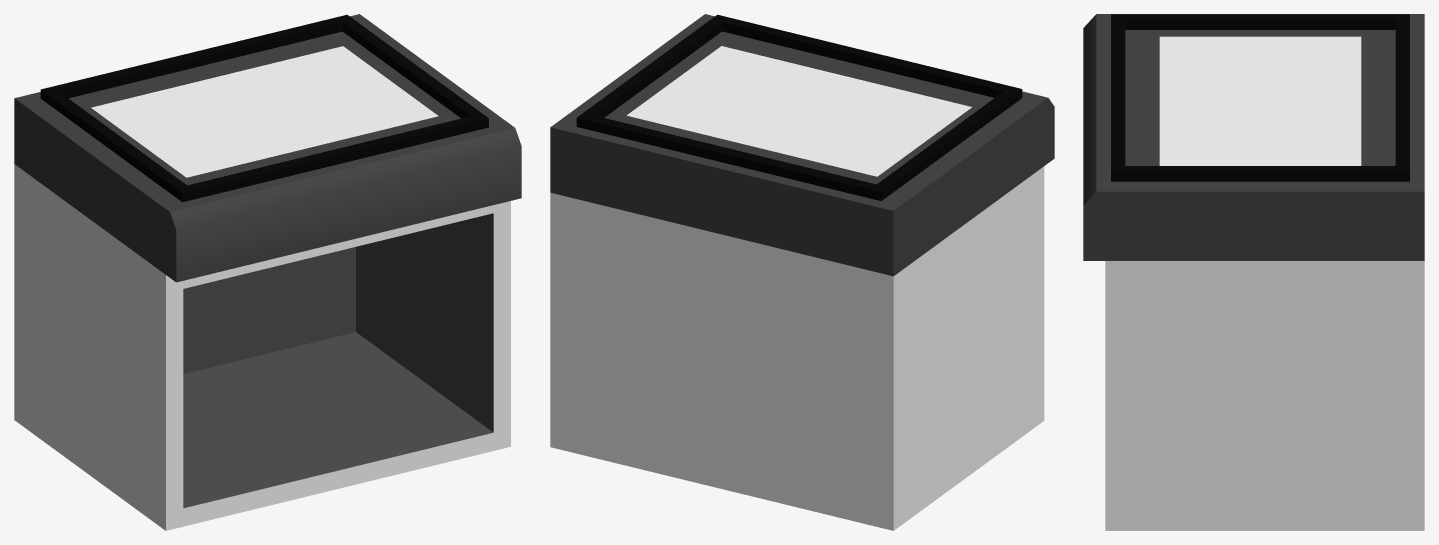
The model's file is Itr_Oven_Body_01.FBX.
3 views of the same model, side by side, from view 1: azimuth 30°, elevation 25°; view 2: azimuth 150°, elevation 25°; view 3: azimuth 270°, elevation 25° (orthographic). The views are drawn at different scales.
Visible parts, largest first — view 1: Itr_Oven_Body_01; view 2: Itr_Oven_Body_01; view 3: Itr_Oven_Body_01.
Boxes of the visible parts, left/top/right/bottom form: Itr_Oven_Body_01: left=14, top=14, right=521, bottom=530; Itr_Oven_Body_01: left=550, top=14, right=1054, bottom=530; Itr_Oven_Body_01: left=1083, top=14, right=1424, bottom=530.
Size of the model in its own units: 45.15 by 41.37 by 36.67.
